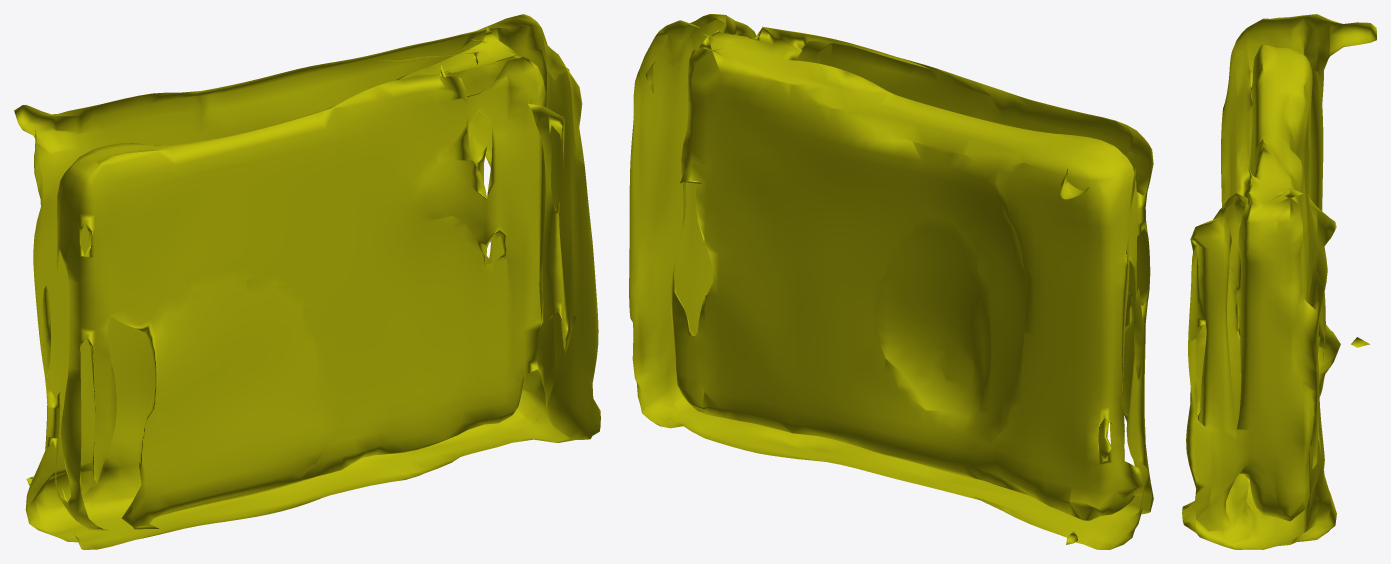
3 renders of one model, left to right at view 1: azimuth 30°, elevation 25°; view 2: azimuth 150°, elevation 25°; view 3: azimuth 270°, elevation 25°, orthographic. The views are drawn at different scales.
Visible parts, largest first — view 1: world; view 2: world; view 3: world.
Boxes of the visible parts, x1,y1,x2,y2 form: world: (14,14,600,549); world: (629,14,1153,549); world: (1182,14,1376,549).
Bounding box in the file's own units: 37.75 × 29.36 × 14.52.
